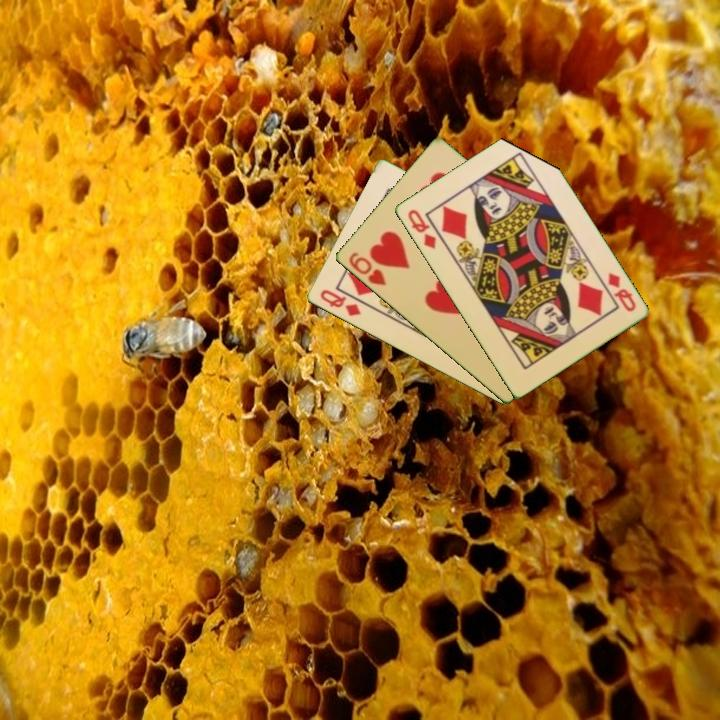6h: (345, 249, 389, 289)
Qd: (403, 205, 439, 252), (316, 286, 364, 319), (604, 269, 638, 315)
